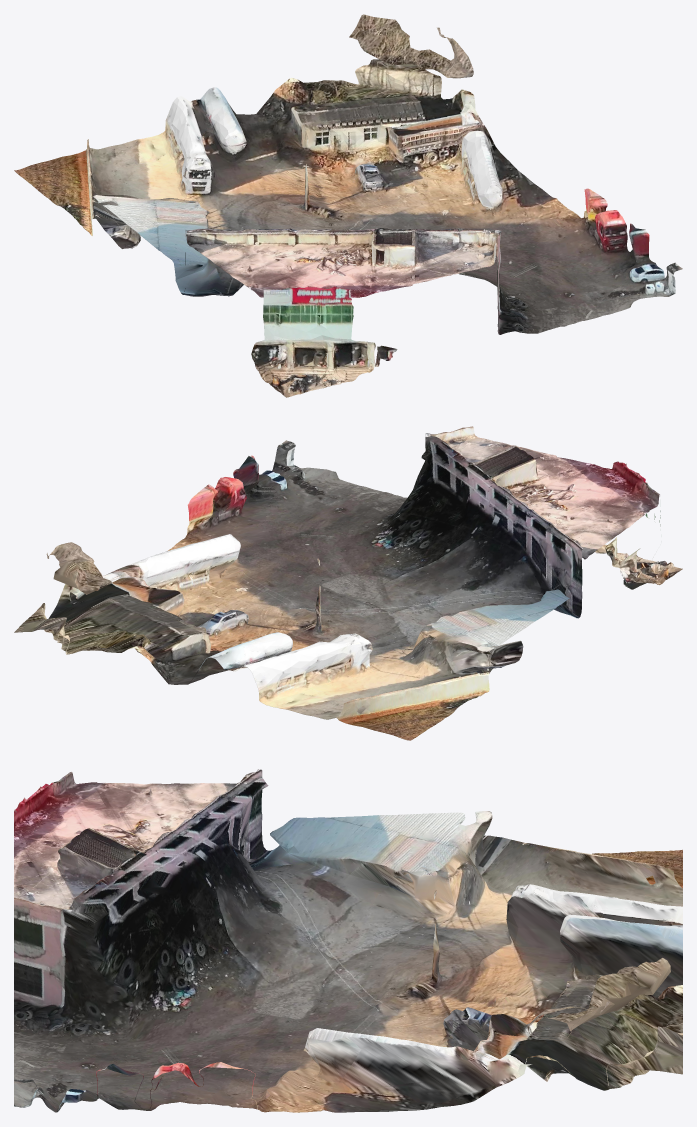
File: BlockBBBB_L20_29.glb
3 views of the same model, one above another, from view 1: azimuth 30°, elevation 25°; view 2: azimuth 150°, elevation 25°; view 3: azimuth 270°, elevation 25° (orthographic). The views are drawn at different scales.
Visible parts, largest first — view 1: rtc; view 2: rtc; view 3: rtc.
Part boxes in pixels (box(x1,y1,x2,y2)): rtc: box(14, 14, 682, 397); rtc: box(14, 426, 682, 740); rtc: box(14, 769, 682, 1112).
Bounding box in the file's own units: 44.71 × 11.56 × 53.13.
Materials: 6 (6 with a texture image).
